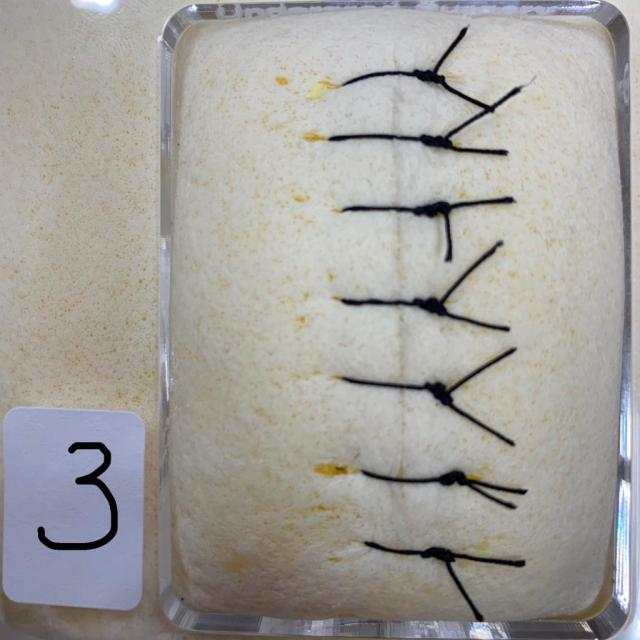knot: (424, 382, 453, 405), (413, 202, 452, 218), (414, 298, 447, 315), (421, 547, 455, 562), (413, 69, 445, 84), (421, 135, 452, 149), (439, 470, 467, 485)
leftover: (438, 87, 521, 143), (435, 391, 515, 446), (436, 241, 501, 308), (443, 346, 518, 396), (442, 555, 484, 622), (427, 74, 495, 112), (430, 304, 511, 331), (427, 26, 468, 77), (456, 476, 516, 509), (459, 476, 528, 494), (435, 198, 515, 211), (435, 140, 505, 154), (450, 556, 527, 566), (443, 208, 450, 262)
stitch: (341, 375, 452, 397), (362, 540, 456, 559), (340, 71, 446, 87), (360, 468, 468, 482), (327, 135, 453, 145), (340, 299, 446, 309), (341, 206, 453, 212)
wound: (392, 44, 410, 591)
